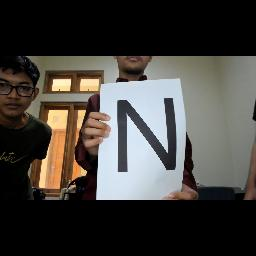n: (113, 94, 183, 180)
